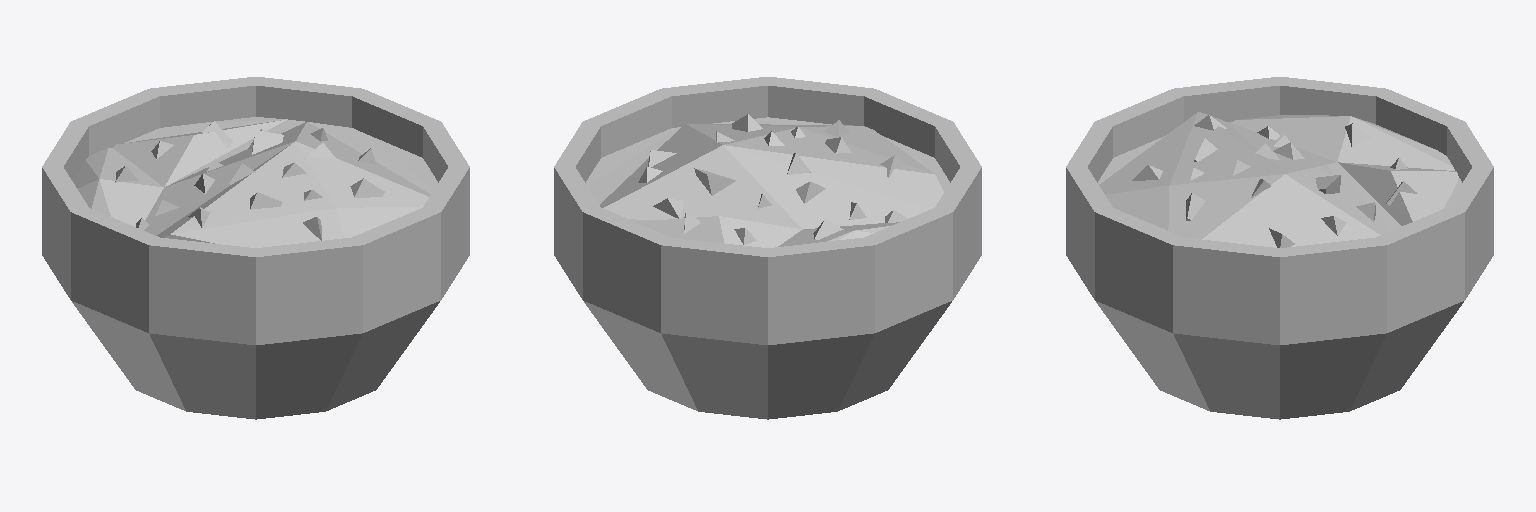
The model's file is rice.obj.
The picture shows the model from 3 angles: view 1: azimuth 30°, elevation 25°; view 2: azimuth 150°, elevation 25°; view 3: azimuth 270°, elevation 25°; orthographic projection.
Bounding box in the file's own units: 0.15 × 0.0811 × 0.15.